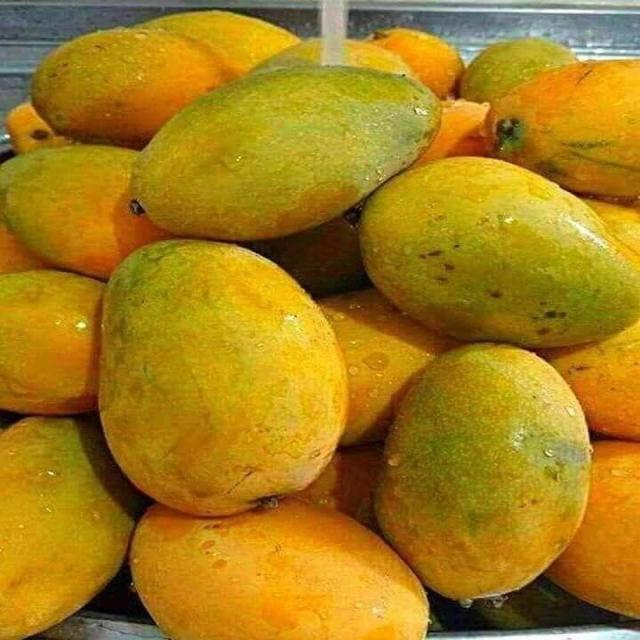mango: (100, 240, 347, 515), (376, 344, 589, 599), (132, 66, 439, 240), (360, 158, 639, 347), (131, 498, 428, 639), (0, 418, 141, 639), (32, 28, 223, 147), (0, 145, 168, 279), (319, 289, 455, 445), (488, 60, 639, 197), (547, 440, 639, 617), (0, 270, 103, 414), (543, 322, 639, 440), (144, 10, 299, 79), (249, 214, 368, 297), (460, 38, 577, 102), (473, 578, 619, 629), (297, 444, 383, 529), (368, 28, 463, 97), (414, 100, 488, 167), (5, 102, 71, 153), (584, 199, 639, 255), (343, 40, 415, 78), (0, 222, 46, 274), (0, 411, 20, 429)
